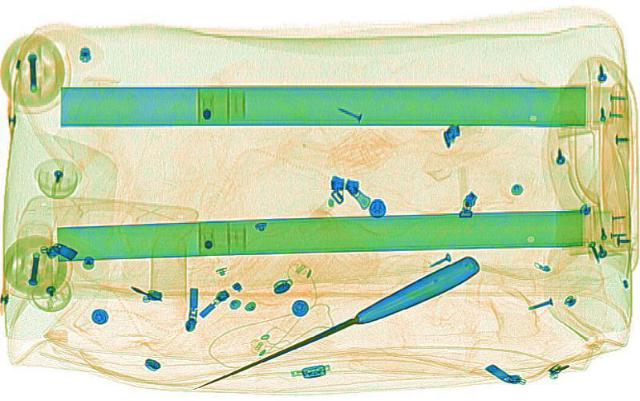Knife: (185, 252, 490, 399)
